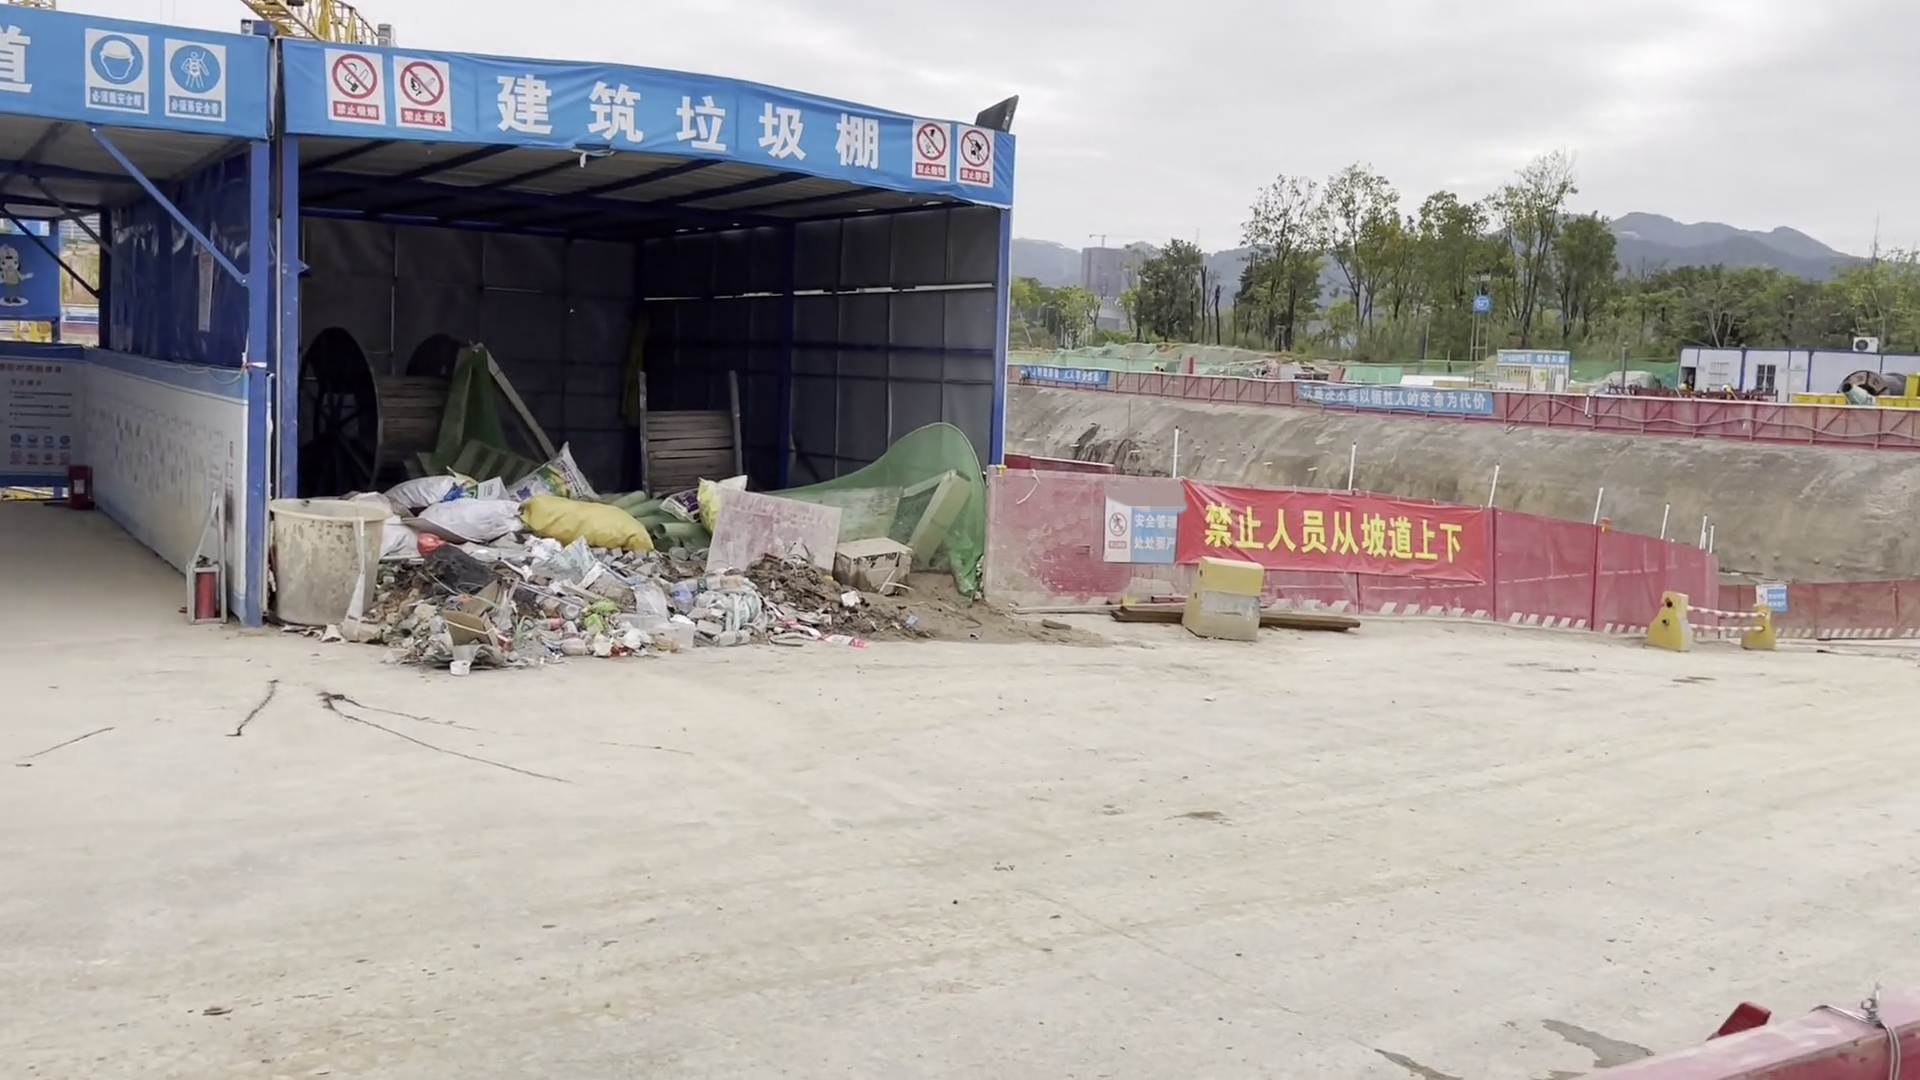slogan: (3, 1, 1019, 214), (1174, 483, 1478, 572), (1282, 381, 1495, 419), (1019, 367, 1112, 392)
